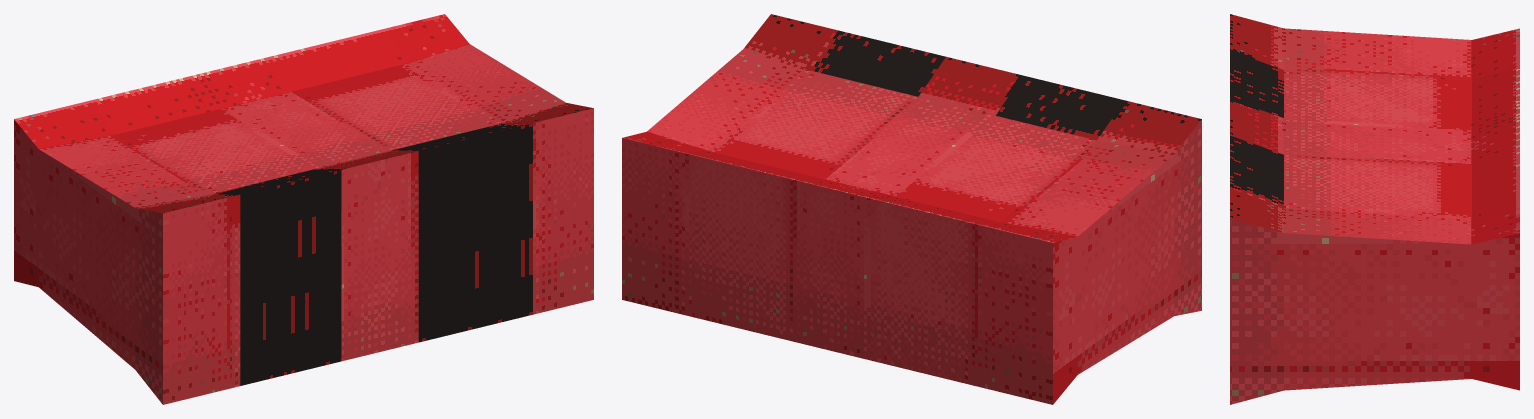
File: Road_Blocks_-_Red.glb
3 renders of one model, left to right at view 1: azimuth 30°, elevation 25°; view 2: azimuth 150°, elevation 25°; view 3: azimuth 270°, elevation 25°, orthographic. The views are drawn at different scales.
Visible parts, largest first — view 1: Road Blocks - Red; view 2: Road Blocks - Red; view 3: Road Blocks - Red.
Boxes of the visible parts, x1,y1,x2,y2 form: Road Blocks - Red: [14, 14, 593, 404]; Road Blocks - Red: [622, 14, 1201, 404]; Road Blocks - Red: [1230, 14, 1519, 404].
Size of the model in its own units: 0.462 by 0.1963 by 0.2766.
1 material, 1 textured.
